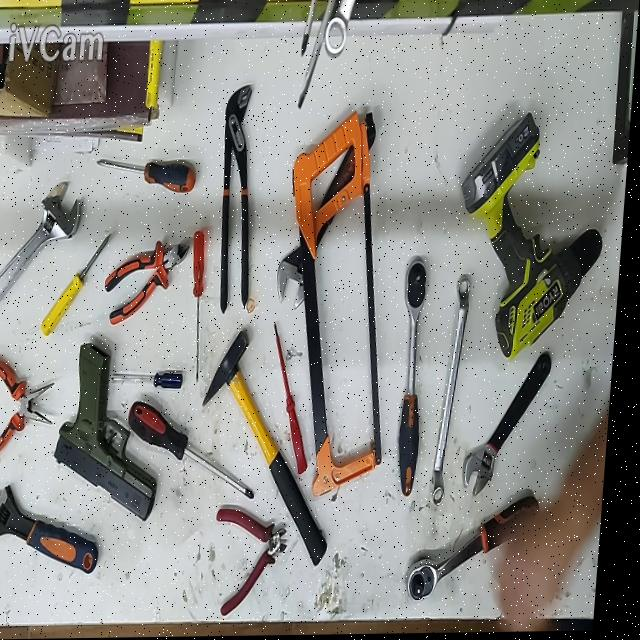Screwdriver: (135, 403, 262, 502), (45, 234, 114, 336), (280, 323, 316, 476), (98, 160, 198, 192), (197, 231, 208, 386), (117, 371, 189, 389)
